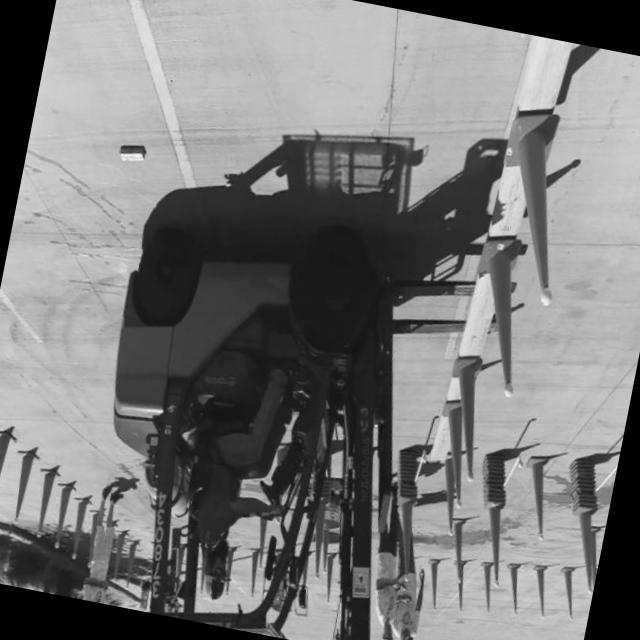driver: (148, 365, 324, 623)
forklift: (39, 159, 475, 640)
person: (64, 474, 141, 606), (354, 529, 417, 640), (377, 561, 438, 640)
